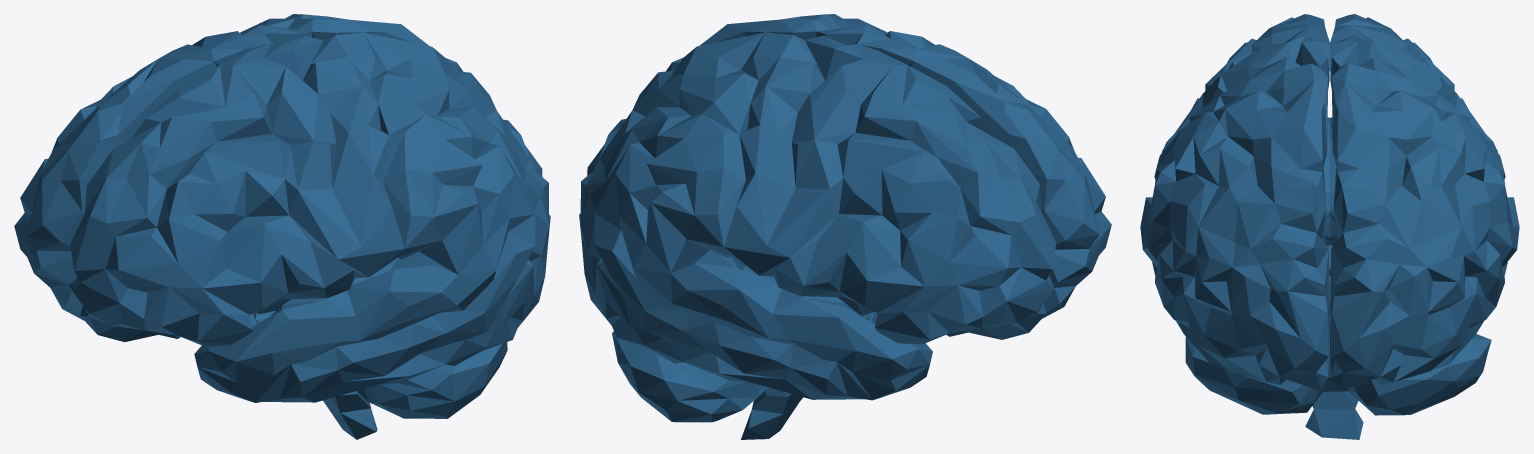
Rendered from Brain.obj.
3 renders of one model, left to right at view 1: azimuth 30°, elevation 25°; view 2: azimuth 150°, elevation 25°; view 3: azimuth 270°, elevation 25°, orthographic. The views are drawn at different scales.
Visible parts, largest first — view 1: BRAIN; view 2: BRAIN; view 3: BRAIN.
Part boxes in pixels (x1,y1,x2,y2): BRAIN: (14,14,550,439); BRAIN: (579,14,1111,439); BRAIN: (1140,14,1519,439).
Bounding box in the file's own units: 214 × 180 × 172.
